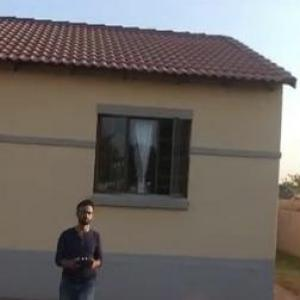follow: (51, 195, 116, 299)
